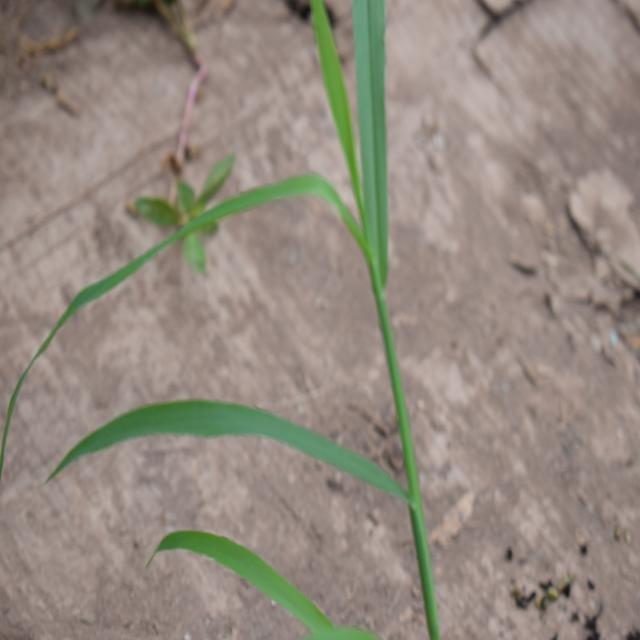crabgrass: (74, 0, 446, 544)
